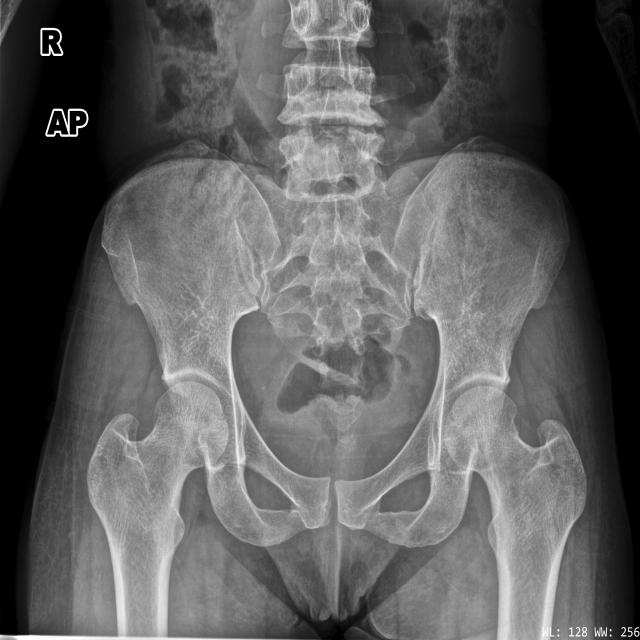normal-left: (446, 386, 588, 640)
normal-right: (87, 382, 228, 636)
